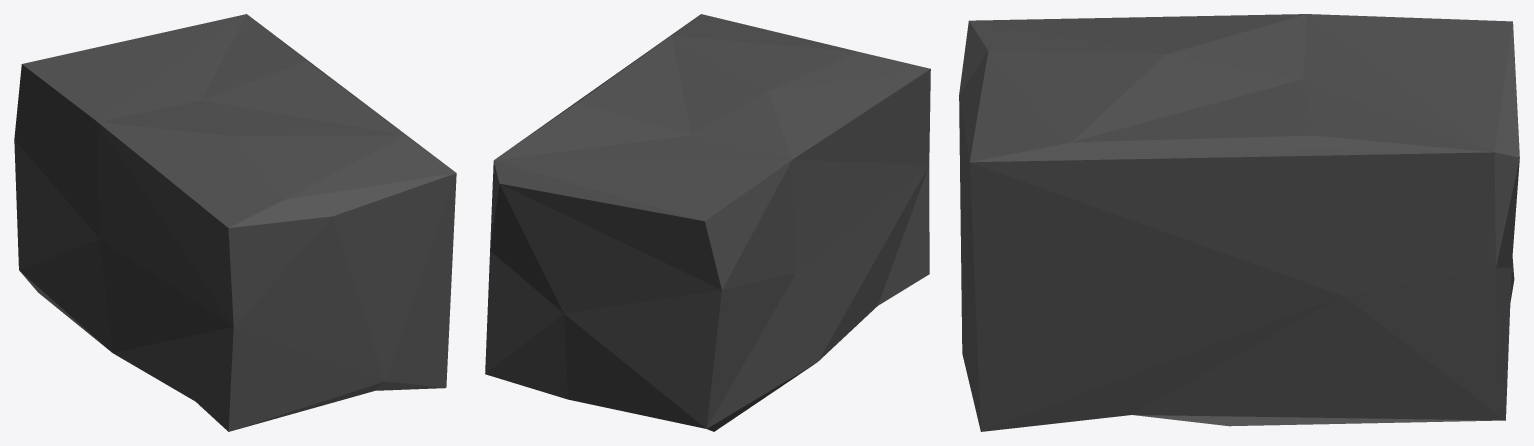
The model's file is Stone_Brick.fbx.
3 renders of one model, left to right at view 1: azimuth 30°, elevation 25°; view 2: azimuth 150°, elevation 25°; view 3: azimuth 270°, elevation 25°, orthographic. The views are drawn at different scales.
Visible parts, largest first — view 1: Cube; view 2: Cube; view 3: Cube.
Boxes of the visible parts, x1,y1,x2,y2 form: Cube: [14, 14, 456, 431]; Cube: [485, 14, 930, 431]; Cube: [959, 14, 1519, 431].
Bounding box in the file's own units: 32.3 × 30.61 × 53.2.
